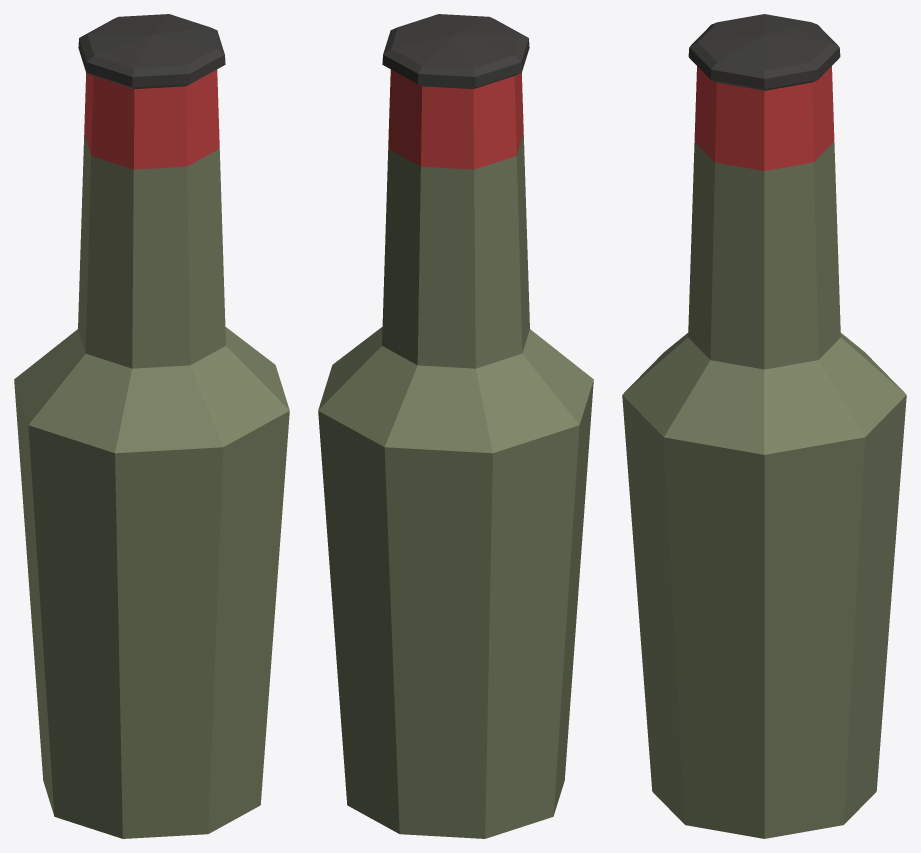
Rendered from Bottle_2.fbx.
3 views of the same model, side by side, from view 1: azimuth 30°, elevation 25°; view 2: azimuth 150°, elevation 25°; view 3: azimuth 270°, elevation 25° (orthographic).
Visible parts, largest first — view 1: pCylinder87; view 2: pCylinder87; view 3: pCylinder87.
Boxes of the visible parts, x1,y1,x2,y2 form: pCylinder87: (14,14,289,838); pCylinder87: (318,14,593,838); pCylinder87: (622,14,906,838).
Size of the model in its own units: 0.2159 by 0.6327 by 0.2159.
1 material, 1 textured.
